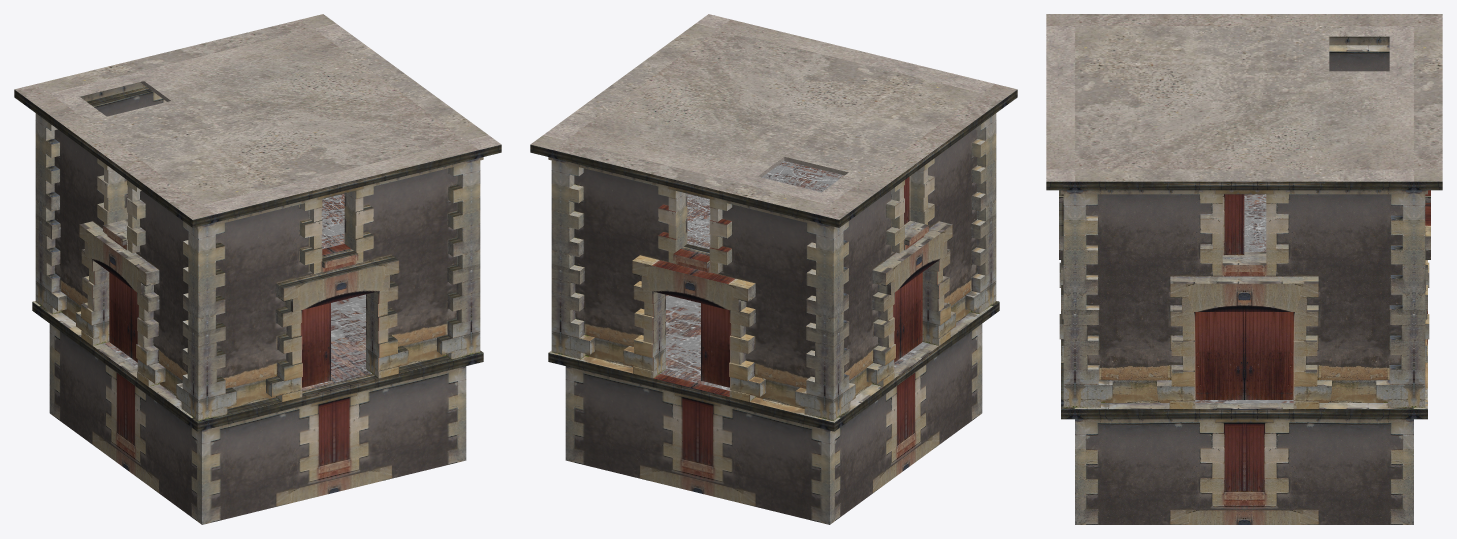
The model's file is BagBuilding17_140.fbx.
The picture shows the model from 3 angles, left to right: view 1: azimuth 30°, elevation 25°; view 2: azimuth 150°, elevation 25°; view 3: azimuth 270°, elevation 25°; orthographic projection. The views are drawn at different scales.
Parts seen in each view (by area): view 1: main140, roof140, floor140; view 2: main140, roof140, floor140; view 3: main140, roof140, floor140.
Part boxes in pixels (bbox=[...]): main140: bbox=[14, 82, 501, 524]; roof140: bbox=[14, 14, 501, 219]; floor140: bbox=[104, 193, 371, 390]; main140: bbox=[530, 89, 1017, 524]; roof140: bbox=[530, 14, 1017, 219]; floor140: bbox=[660, 161, 927, 390]; main140: bbox=[1046, 36, 1442, 524]; roof140: bbox=[1046, 14, 1442, 181]; floor140: bbox=[1195, 194, 1293, 402].
Size of the model in its own units: 17.69 by 17.5 by 17.69.
